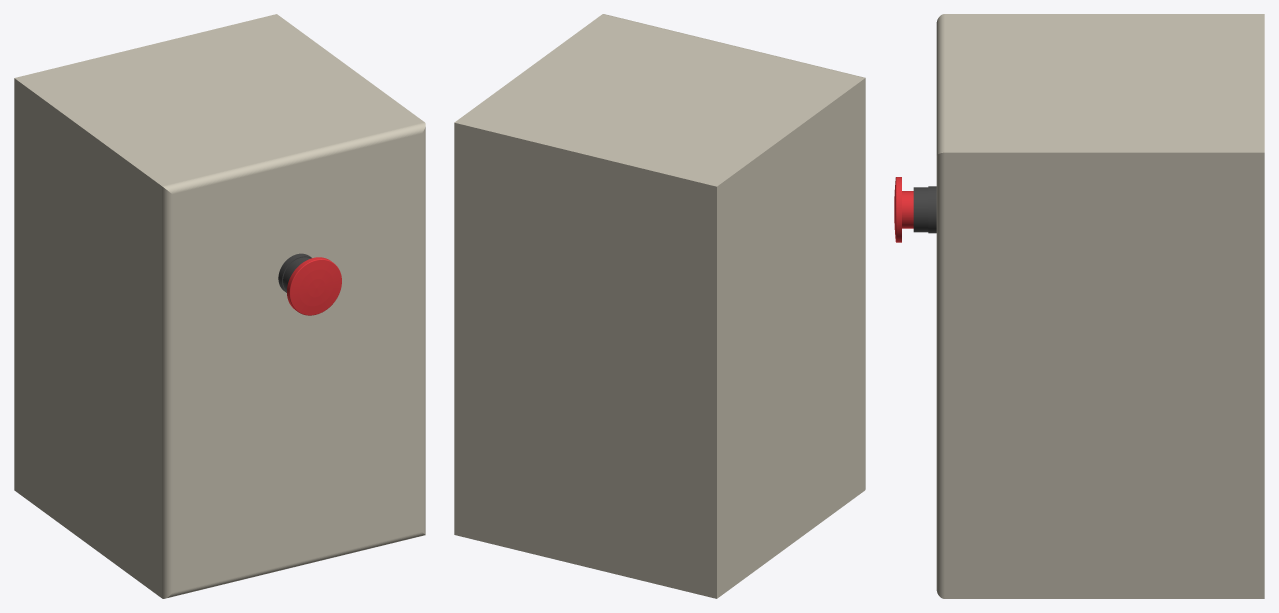
The model's file is caixa.dae.
3 views of the same model, side by side, from view 1: azimuth 30°, elevation 25°; view 2: azimuth 150°, elevation 25°; view 3: azimuth 270°, elevation 25° (orthographic). The views are drawn at different scales.
Visible parts, largest first — view 1: Part 1, Part 4; view 2: Part 1; view 3: Part 1, Part 3, Part 4.
Boxes of the visible parts, x1=… form: Part 1: x1=14, y1=14, x2=425, y2=598; Part 4: x1=287, y1=257, x2=341, y2=315; Part 1: x1=454, y1=14, x2=865, y2=598; Part 1: x1=936, y1=14, x2=1264, y2=598; Part 3: x1=913, y1=186, x2=936, y2=233; Part 4: x1=894, y1=177, x2=913, y2=242.
Size of the model in its own units: 0.2 by 0.2258 by 0.3.
